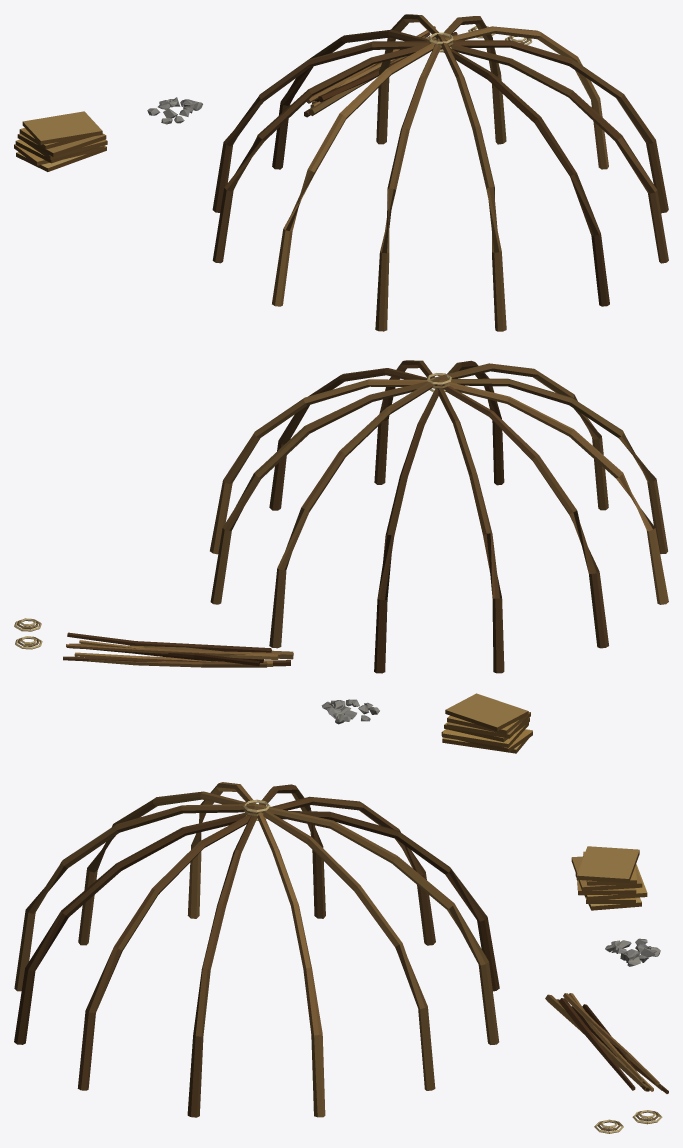
Rendered from toolmaker_hut_1_struttura.glb.
3 views of the same model, one above another, from view 1: azimuth 30°, elevation 25°; view 2: azimuth 150°, elevation 25°; view 3: azimuth 270°, elevation 25° (orthographic). The views are drawn at different scales.
Visible parts, largest first — view 1: toolmaker_hut_1_struttura; view 2: toolmaker_hut_1_struttura; view 3: toolmaker_hut_1_struttura.
Boxes of the visible parts, x1,y1,x2,y2 form: toolmaker_hut_1_struttura: (14,14,668,331); toolmaker_hut_1_struttura: (14,360,668,753); toolmaker_hut_1_struttura: (14,782,668,1133).
Bounding box in the file's own units: 8.12 × 3.06 × 8.55.
